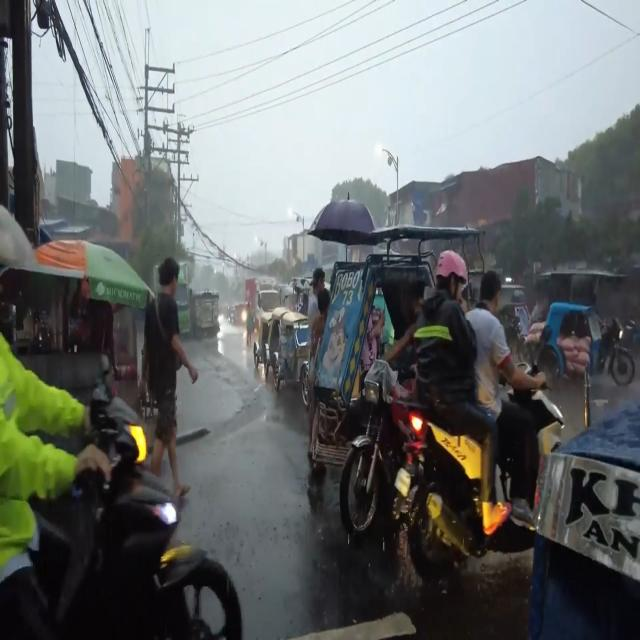invalid: (435, 249, 468, 300)
not_wearing: (478, 269, 504, 314)
